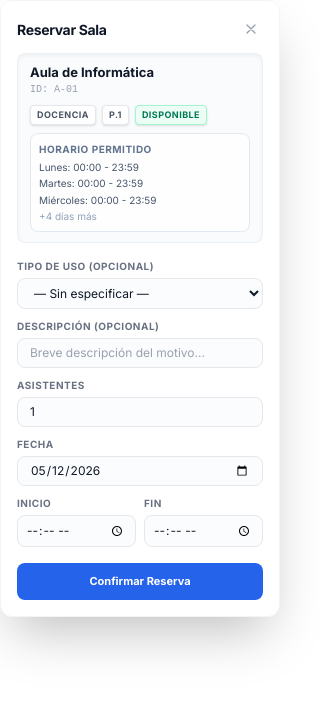
ReservationForm Component Tests › 2. Bloquea el envío en el Frontend lanzando un error reactivo si se pulsa confirmar sin rellenar la hora
What coordinates should you click on to do the following:
click the button "Confirmar Reserva"
I would click on:
 (140, 582)
Its box is [17,563,263,600].
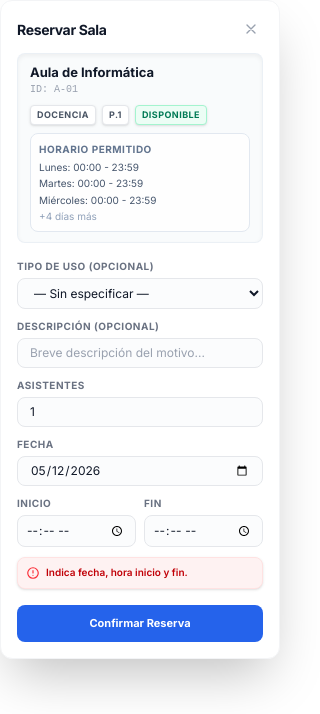
Now the text "Indica fecha, hora inicio y fin." is shown, box [17,557,263,589]
